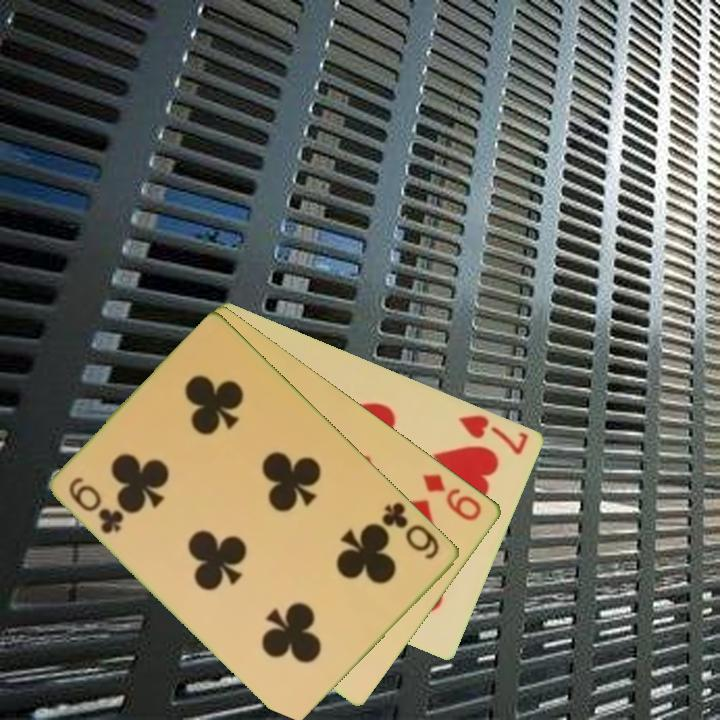6c: (379, 498, 443, 563), (65, 473, 127, 537)
7h: (456, 411, 532, 457)
9d: (419, 470, 486, 524)
